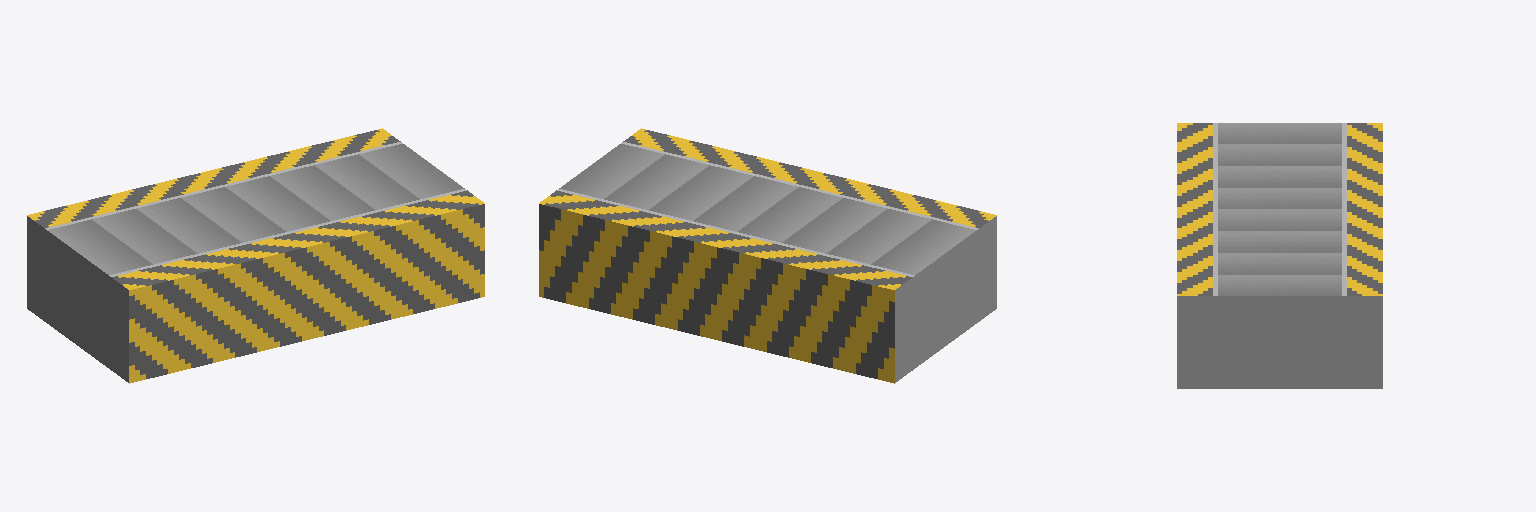
3 renders of one model, left to right at view 1: azimuth 30°, elevation 25°; view 2: azimuth 150°, elevation 25°; view 3: azimuth 270°, elevation 25°, orthographic.
Visible parts, largest first — view 1: RAIL_LEFT_Cube_Cube.003, RAIL_BASE_Cube_Cube, RAIL_RIGHT_Cube_Cube.002; view 2: RAIL_RIGHT_Cube_Cube.002, RAIL_BASE_Cube_Cube, RAIL_LEFT_Cube_Cube.003; view 3: RAIL_BASE_Cube_Cube, RAIL_RIGHT_Cube_Cube.002, RAIL_LEFT_Cube_Cube.003.
Boxes of the visible parts, <box> form: RAIL_LEFT_Cube_Cube.003: <box>109,189,484,383</box>; RAIL_BASE_Cube_Cube: <box>47,144,464,367</box>; RAIL_RIGHT_Cube_Cube.002: <box>27,128,402,322</box>; RAIL_RIGHT_Cube_Cube.002: <box>539,189,914,383</box>; RAIL_BASE_Cube_Cube: <box>559,144,976,367</box>; RAIL_LEFT_Cube_Cube.003: <box>621,128,996,322</box>; RAIL_BASE_Cube_Cube: <box>1218,123,1341,388</box>; RAIL_RIGHT_Cube_Cube.002: <box>1342,123,1382,388</box>; RAIL_LEFT_Cube_Cube.003: <box>1177,123,1217,388</box>.
Size of the model in its own units: 1 by 0.25 by 0.5.
1 materials, 1 textured.